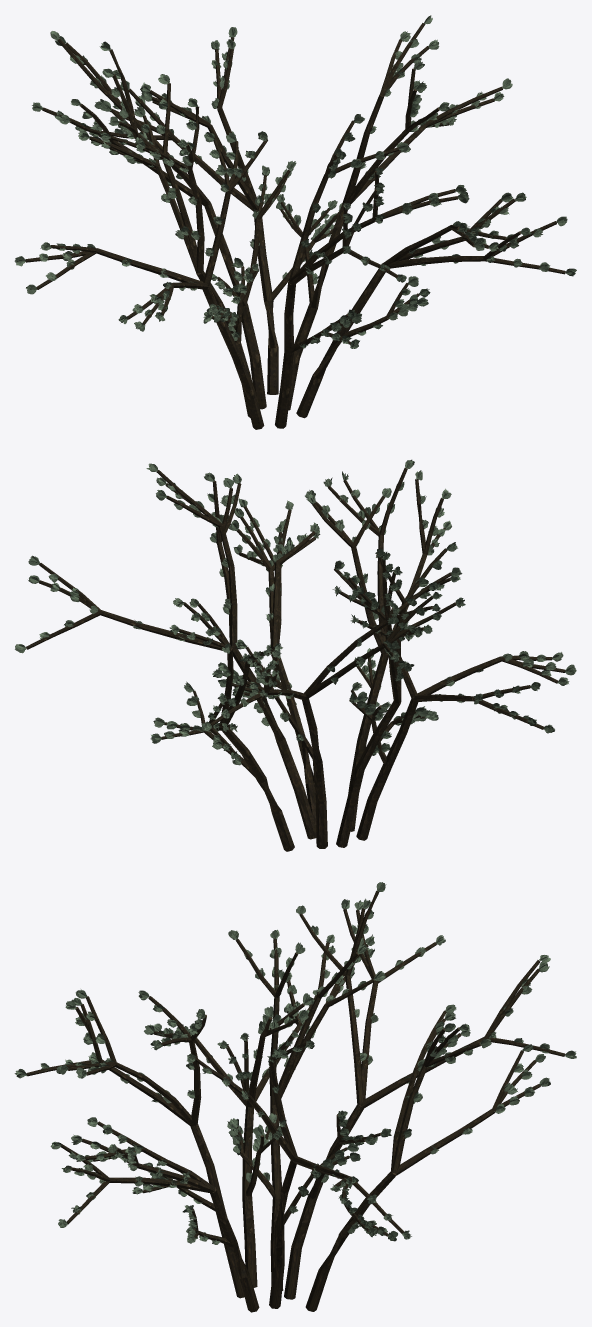
Rendered from alder_thicket_v02.fbx.
The picture shows the model from 3 angles, top to bottom: view 1: azimuth 30°, elevation 25°; view 2: azimuth 150°, elevation 25°; view 3: azimuth 270°, elevation 25°; orthographic projection. The views are drawn at different scales.
Parts seen in each view (by area): view 1: alder_thicket_v02; view 2: alder_thicket_v02; view 3: alder_thicket_v02.
Part boxes in pixels (box(x1,y1,x2,y2)): alder_thicket_v02: box(14, 15, 576, 429); alder_thicket_v02: box(15, 459, 576, 851); alder_thicket_v02: box(14, 882, 576, 1312).
Size of the model in its own units: 894 by 607 by 850.
Materials: 2 (2 with a texture image).
